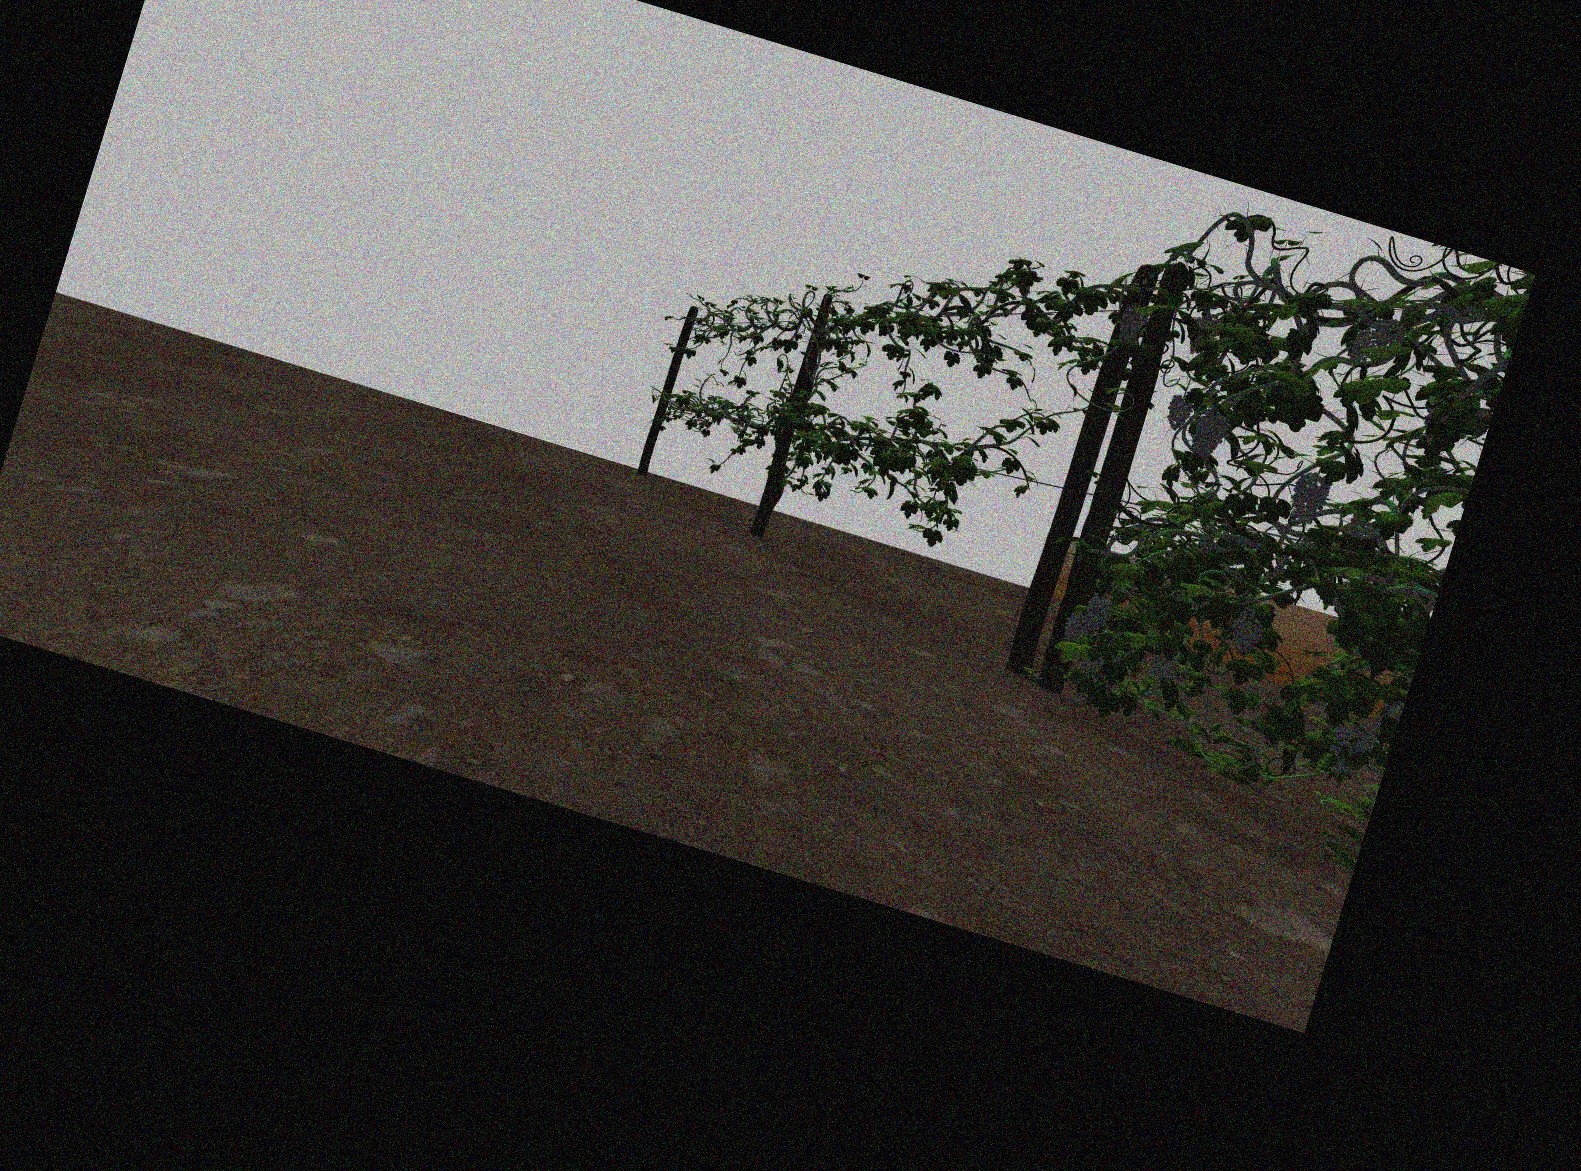grape: (1289, 474, 1328, 524), (1192, 410, 1224, 462), (1228, 608, 1262, 656), (1334, 724, 1373, 754), (1118, 305, 1145, 343), (1164, 395, 1191, 431), (1347, 328, 1377, 360), (1150, 651, 1177, 685), (1085, 597, 1110, 630), (1063, 616, 1088, 645)
